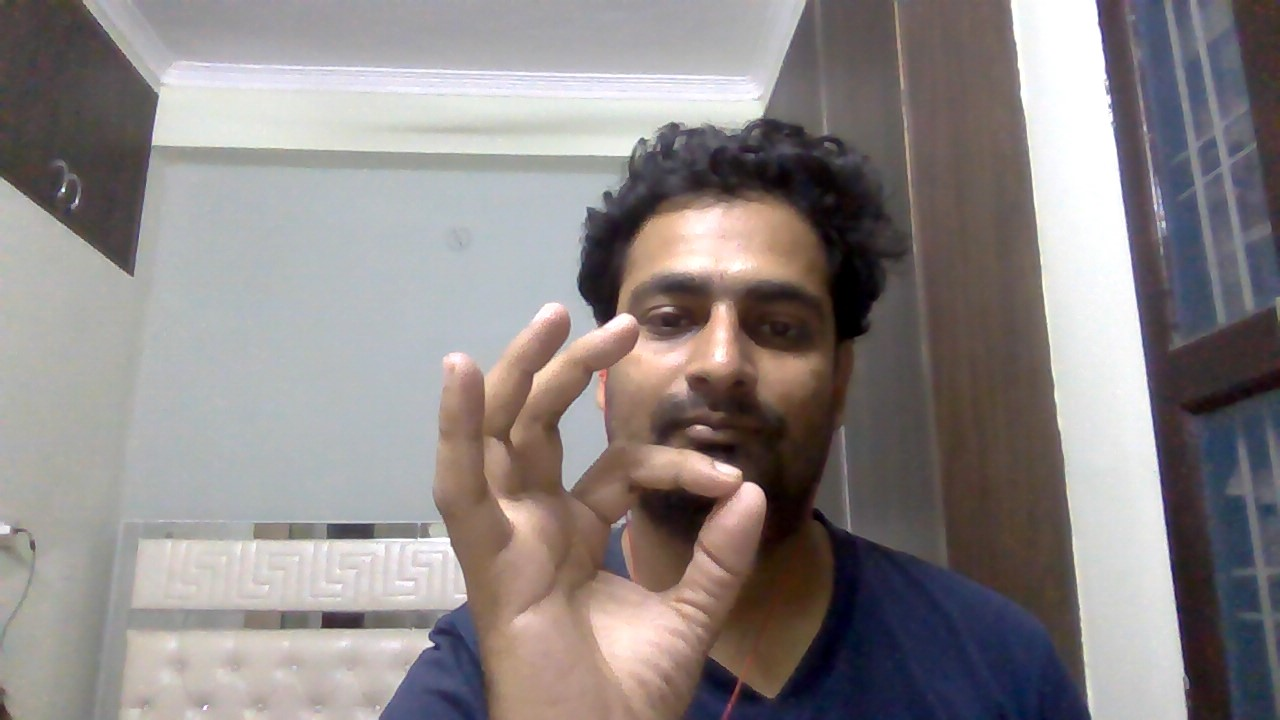Copy: (412, 288, 785, 720)
